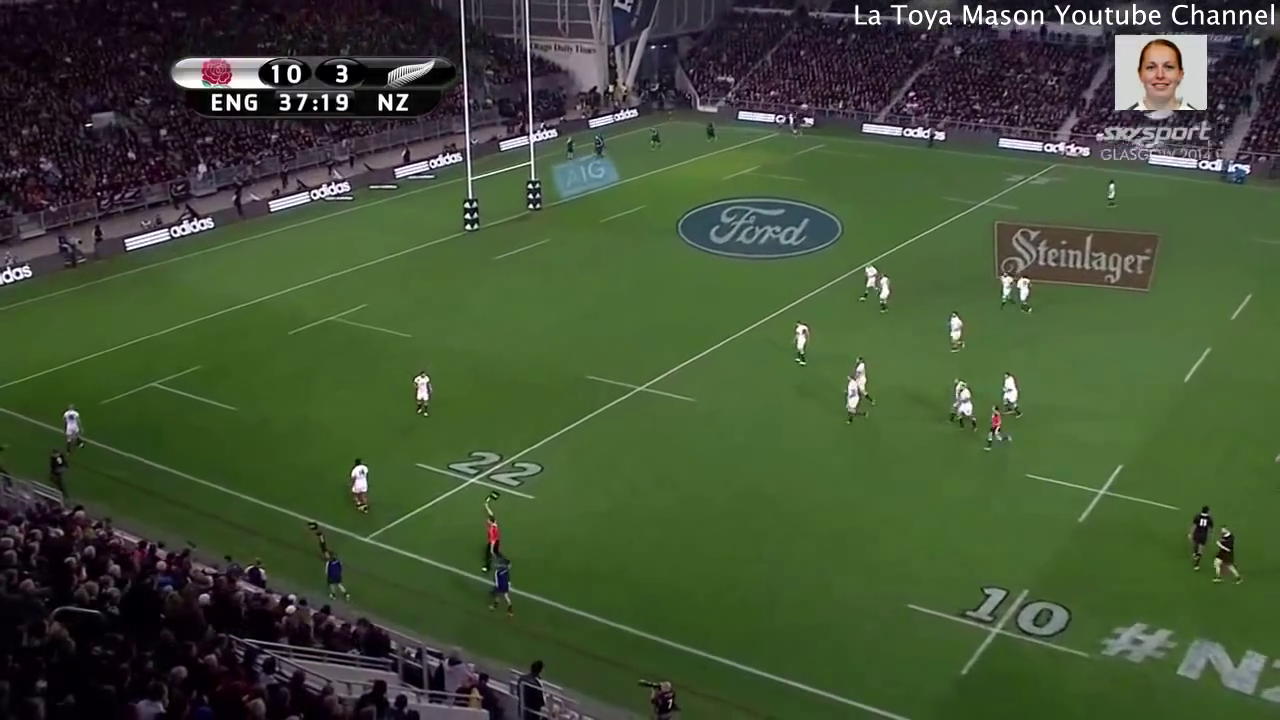10_metre: (907, 576, 1095, 690), (1023, 453, 1181, 536)
player: (1213, 520, 1246, 592), (345, 456, 377, 519), (405, 368, 440, 425), (1185, 503, 1209, 572), (56, 400, 85, 456), (998, 365, 1025, 420), (839, 376, 866, 428), (853, 356, 876, 412), (984, 402, 1010, 451), (943, 309, 970, 354), (789, 317, 811, 368), (956, 386, 976, 433), (860, 260, 881, 301), (1015, 272, 1033, 317), (878, 274, 894, 315), (997, 268, 1012, 308), (701, 119, 721, 145), (1102, 177, 1118, 209), (645, 123, 661, 150), (592, 131, 606, 160), (564, 131, 576, 159), (951, 376, 961, 403)
post: (461, 99, 541, 237)
